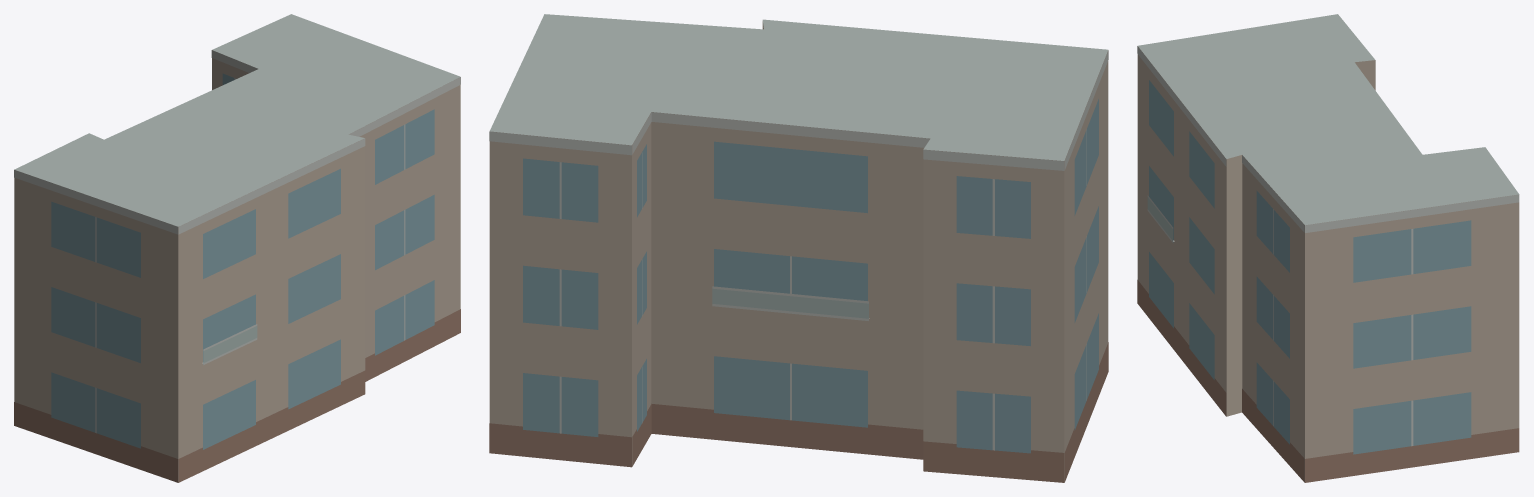
Rendered from survey-upis-32489821.glb.
3 renders of one model, left to right at view 1: azimuth 30°, elevation 25°; view 2: azimuth 150°, elevation 25°; view 3: azimuth 270°, elevation 25°, orthographic. The views are drawn at different scales.
Parts seen in each view (by area): view 1: survey-upis-32489821.tmp; view 2: survey-upis-32489821.tmp; view 3: survey-upis-32489821.tmp.
Boxes of the visible parts, x1,y1,x2,y2 form: survey-upis-32489821.tmp: (14,14,460,482); survey-upis-32489821.tmp: (489,14,1108,482); survey-upis-32489821.tmp: (1137,14,1519,482).
Bounding box in the file's own units: 13.9 × 7.9 × 10.62.
